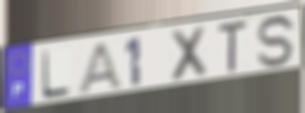1: (123, 35, 144, 88)
A: (75, 40, 126, 94)
L: (40, 49, 73, 101)
S: (255, 13, 299, 70)
T: (216, 19, 250, 76)
X: (169, 23, 209, 84)
